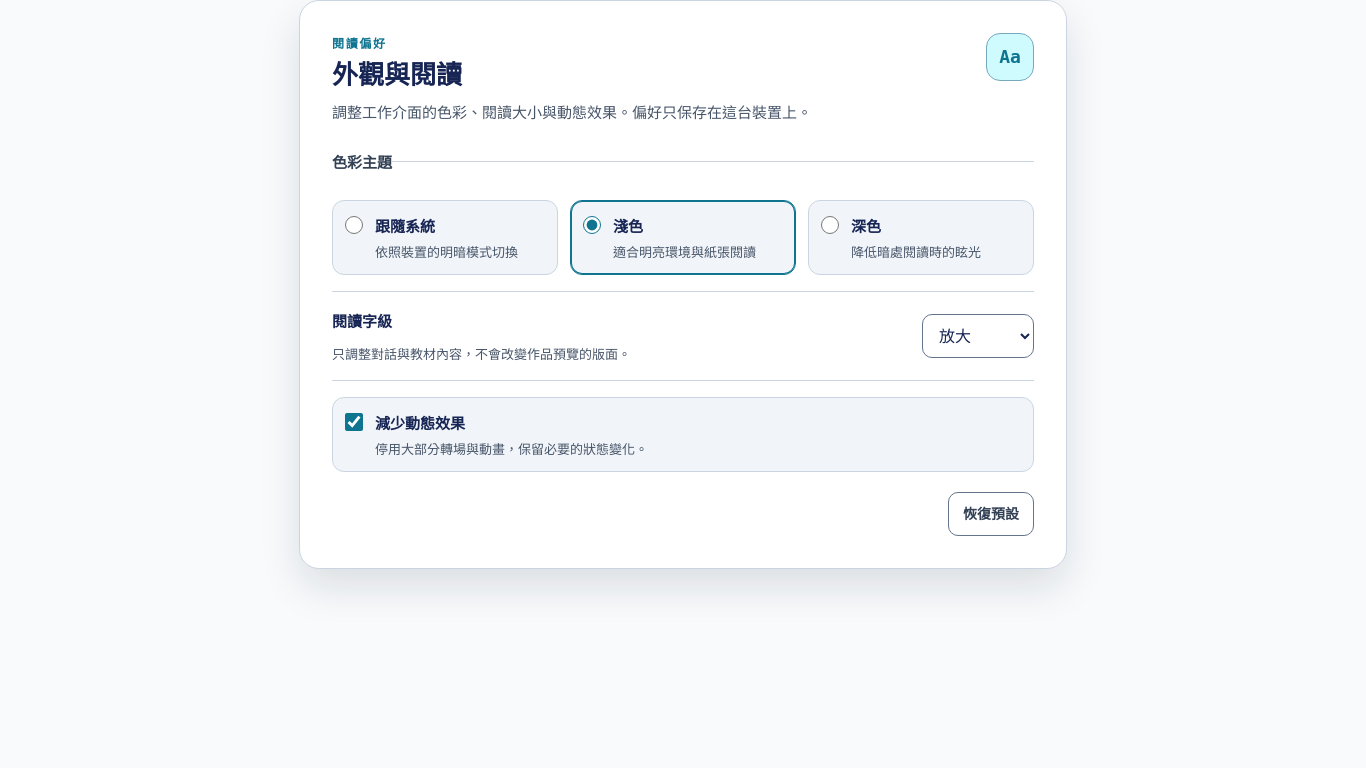
AppearanceSettings › restores defaults with one explicit action
Click the button "恢復預設" at [991, 514], box 948,492 -> 1034,536
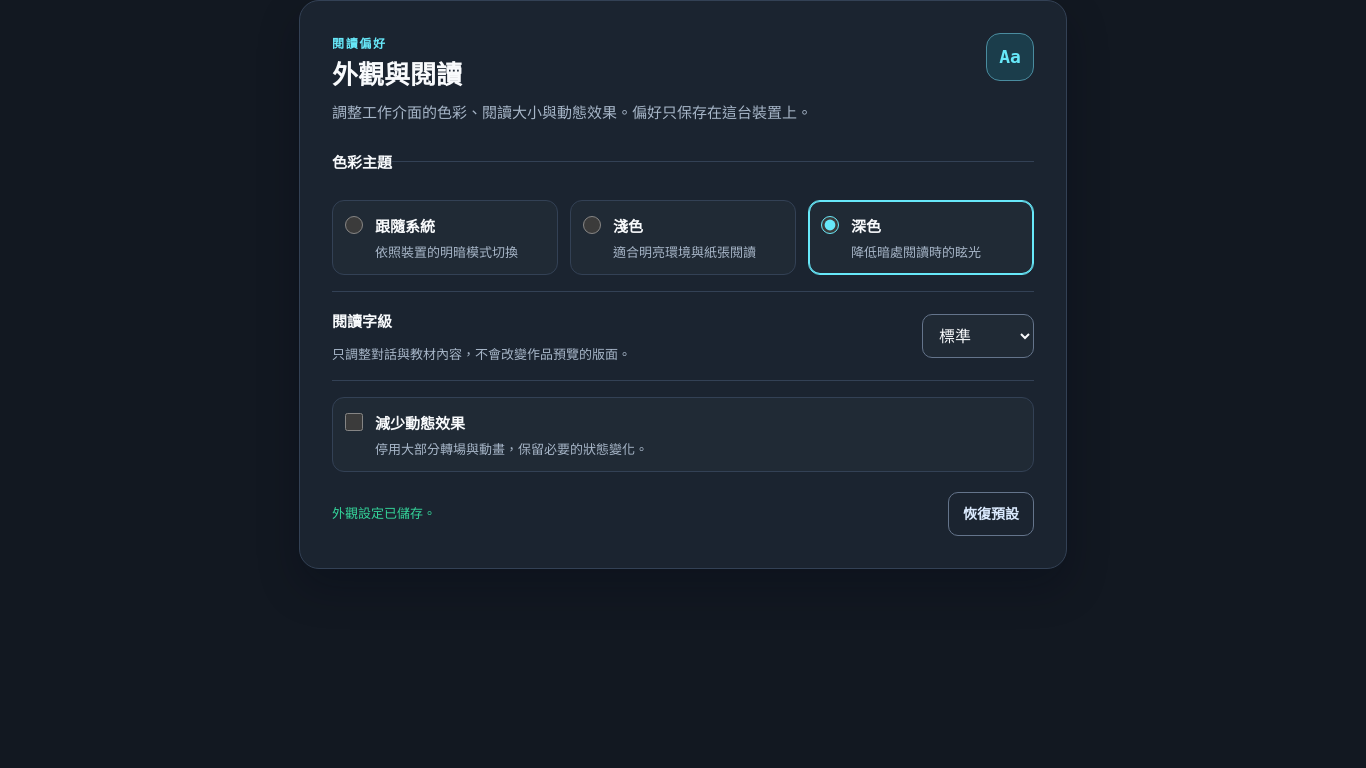
Expected: the radio button labelled "深色 降低暗處閱讀時的眩光" is checked, 821,216 -> 839,234
Expected: the dropdown labelled "閱讀字級 只調整對話與教材內容，不會改變作品預覽的版面。" shows "標準", 922,314 -> 1034,358
Expected: the checkbox labelled "減少動態效果 停用大部分轉場與動畫，保留必要的狀態變化。" is not checked, 345,412 -> 363,430
